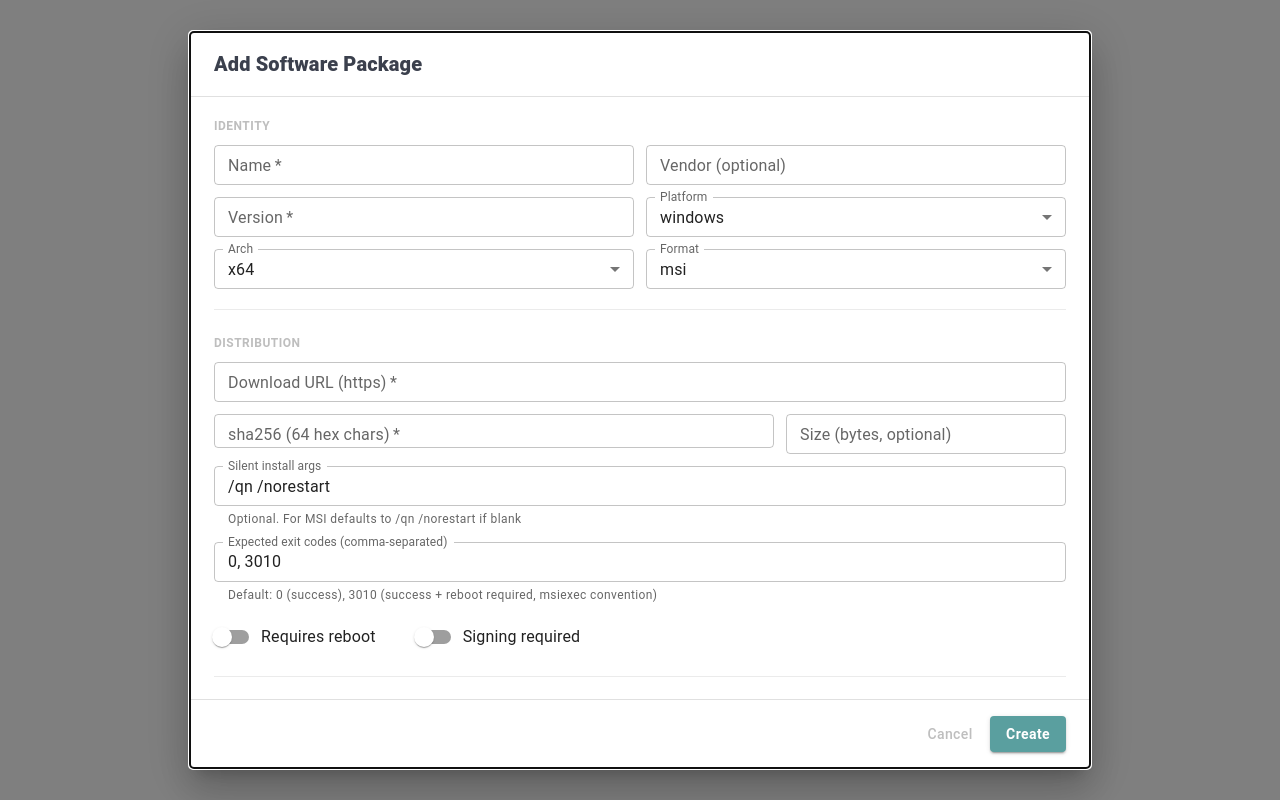
Test: PackageDialog — platform ⇄ format conditioning › switching platform to macos snaps format to pkg and offers pkg/dmg
Change Platform → macos.
Step 1. Click the dropdown named "Platform" → (692, 217), box [660, 208, 724, 226]
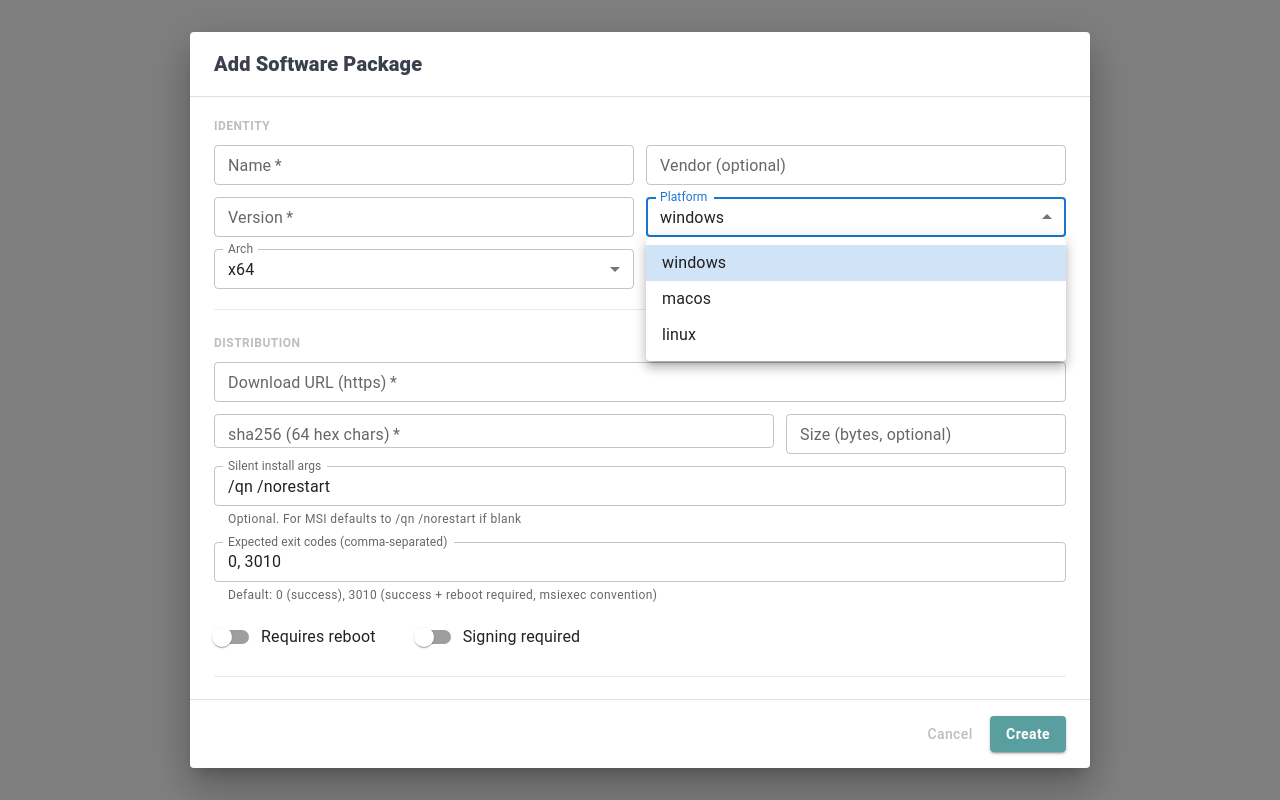
Step 2. Click the option "macos" → (687, 298), box [662, 289, 711, 308]
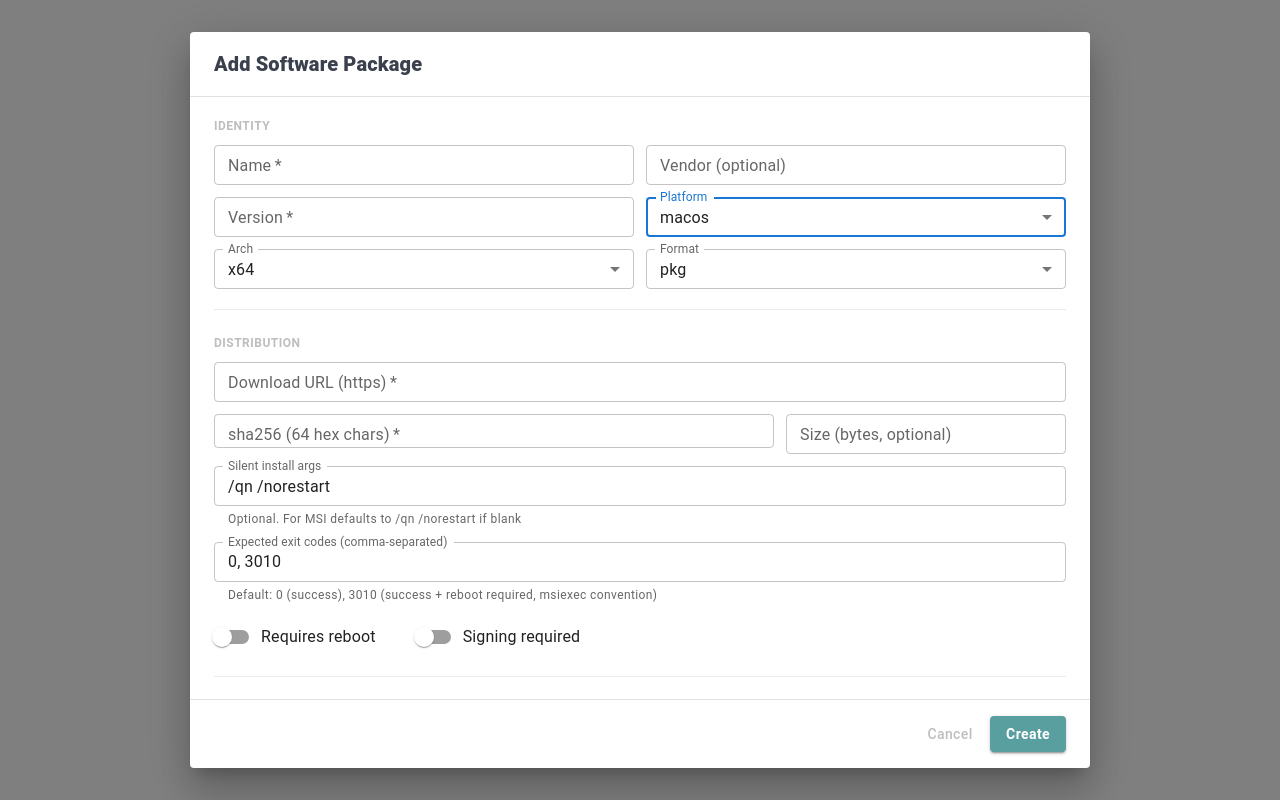
Now the dropdown named "Format" reads "pkg"
And the option list is the macos family.
Step 3. Click the dropdown named "Format" → (673, 269), box [660, 260, 686, 278]
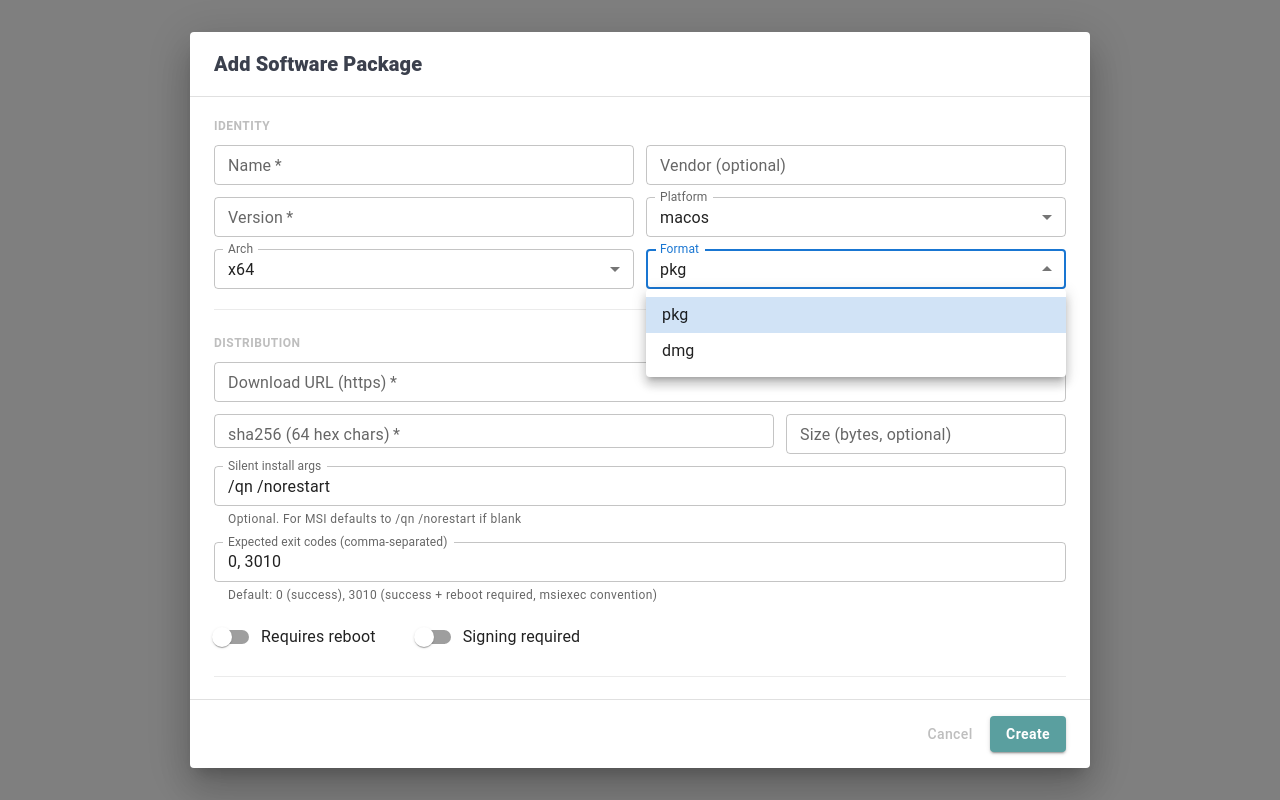
Now the option "pkg" is shown, box [646, 297, 1066, 333]
Now the option "dmg" is shown, box [662, 341, 694, 360]
